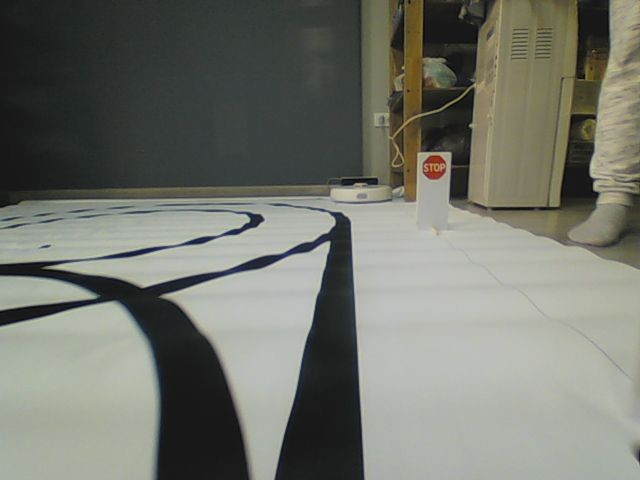Stop: (419, 155, 445, 180)
